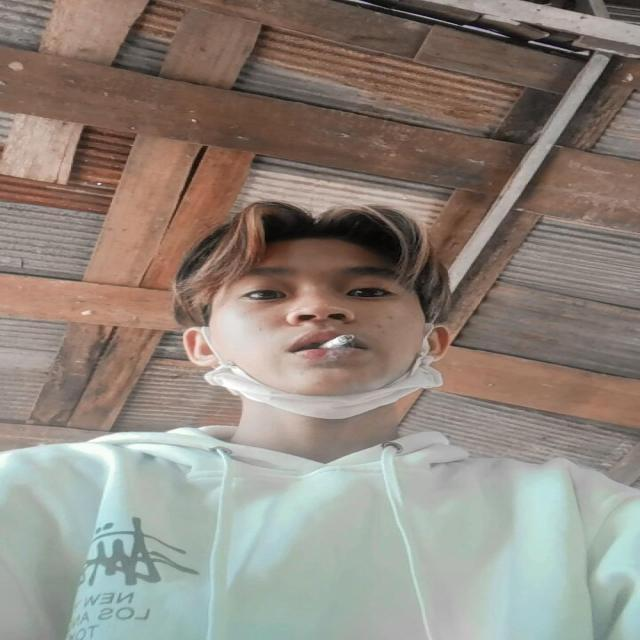rokok: (315, 329, 361, 359)
